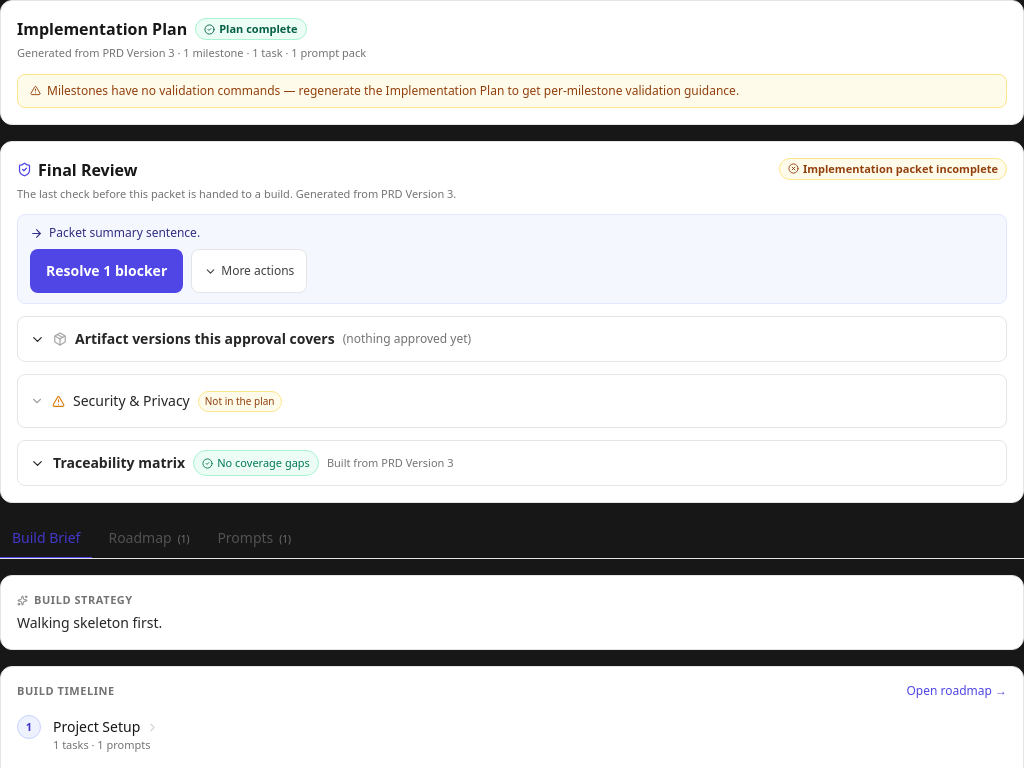
Test: Final Review — folded-in surfaces › states the obligation severity once — blocker list loud, section flag quiet
The blocker list is still the authoritative statement of severity.
Click the button with test id "final-review-primary": {"x": 107, "y": 271} [30,249,183,293]
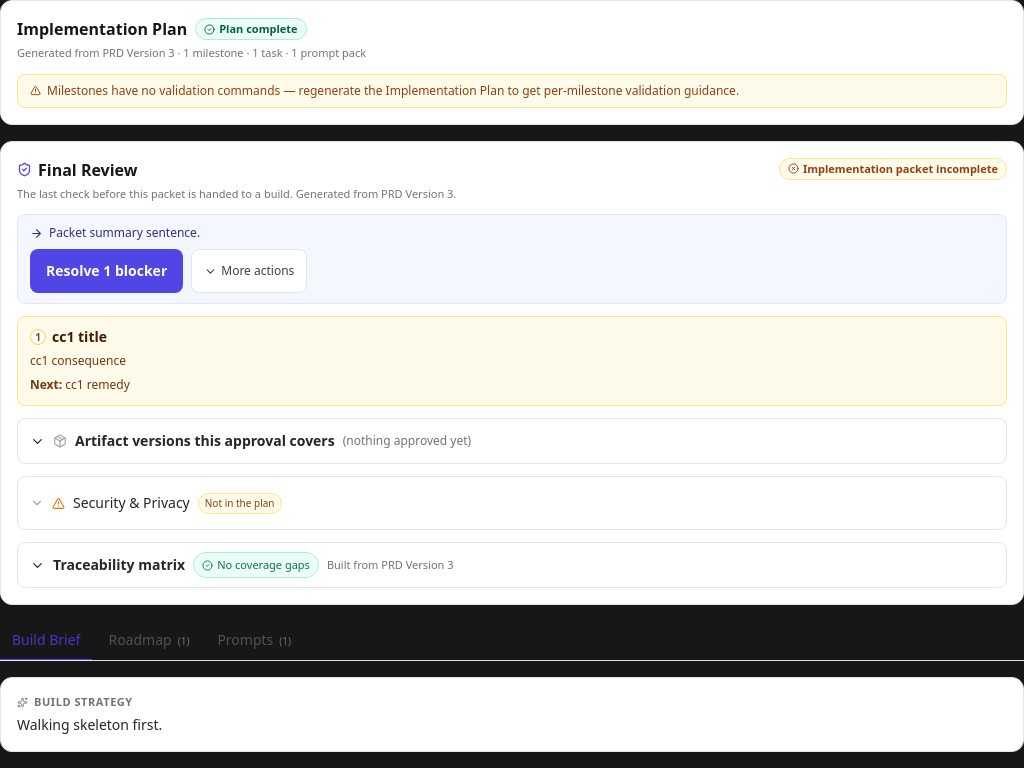
Expected: the element with test id "plan-obligation-security_privacy" shows "Not in the plan", [30,481,994,525]
Expected: the list with test id "final-review-blockers" shows "cc1 consequence", [30,352,126,369]
Expected: the list with test id "final-review-blockers" shows "cc1 remedy", [65,376,130,393]
